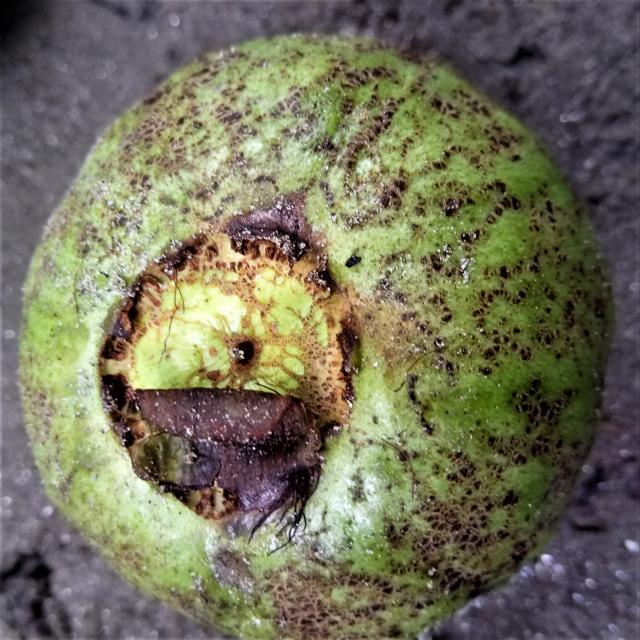Scab: (21, 35, 612, 640)
